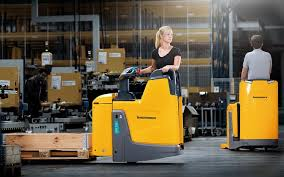Pallet Jack: (21, 66, 184, 165)
